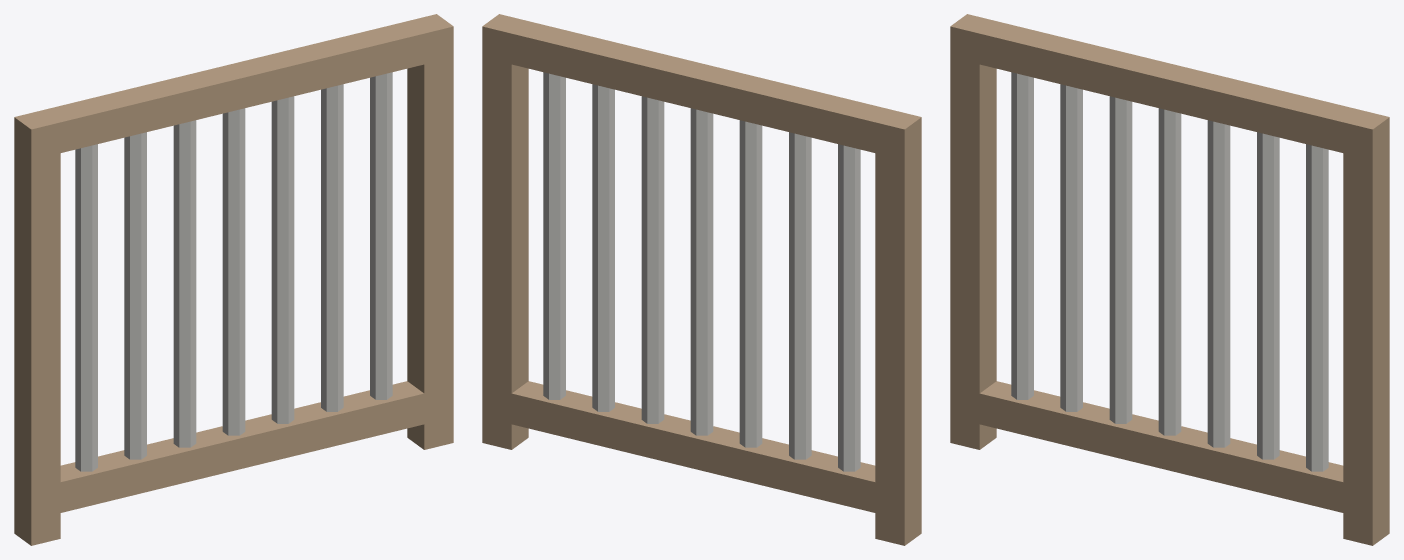
Rendered from kid_grade.glb.
The picture shows the model from 3 angles, left to right: view 1: azimuth 30°, elevation 25°; view 2: azimuth 150°, elevation 25°; view 3: azimuth 330°, elevation 25°; orthographic projection.
Visible parts, largest first — view 1: KID_GRADE_v01; view 2: KID_GRADE_v01; view 3: KID_GRADE_v01.
Part boxes in pixels (x1=…): KID_GRADE_v01: x1=14, y1=14, x2=453, y2=545; KID_GRADE_v01: x1=482, y1=14, x2=921, y2=545; KID_GRADE_v01: x1=950, y1=14, x2=1389, y2=545.
Size of the model in its own units: 0.86 by 0.81 by 0.06.
